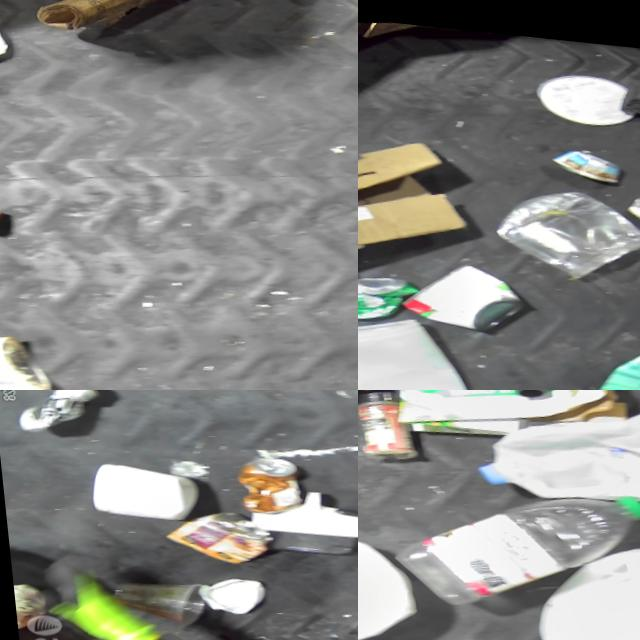can: (168, 494, 286, 575), (219, 437, 318, 520), (414, 251, 520, 328), (358, 390, 430, 469), (358, 258, 414, 317)
milk_jug: (472, 390, 640, 517), (528, 513, 640, 640), (358, 305, 468, 390), (358, 517, 432, 640)
non_white_jug: (588, 319, 640, 390)
